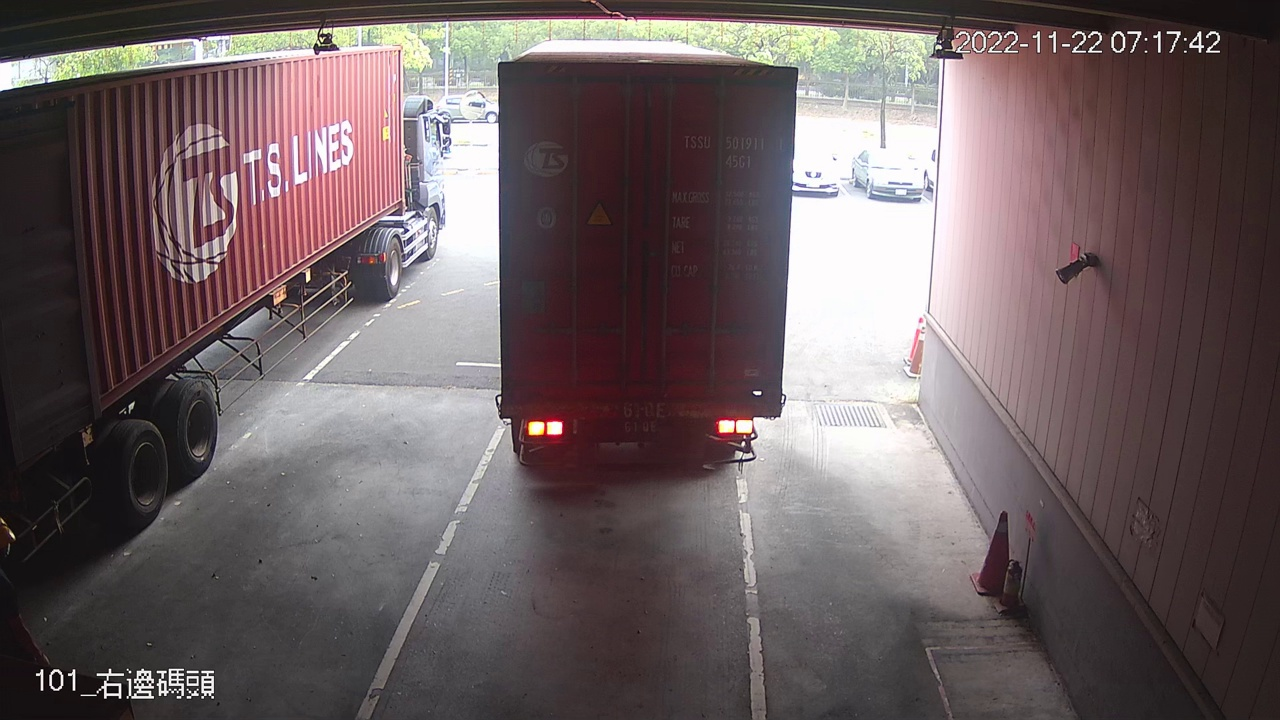container: (677, 127, 788, 174)
